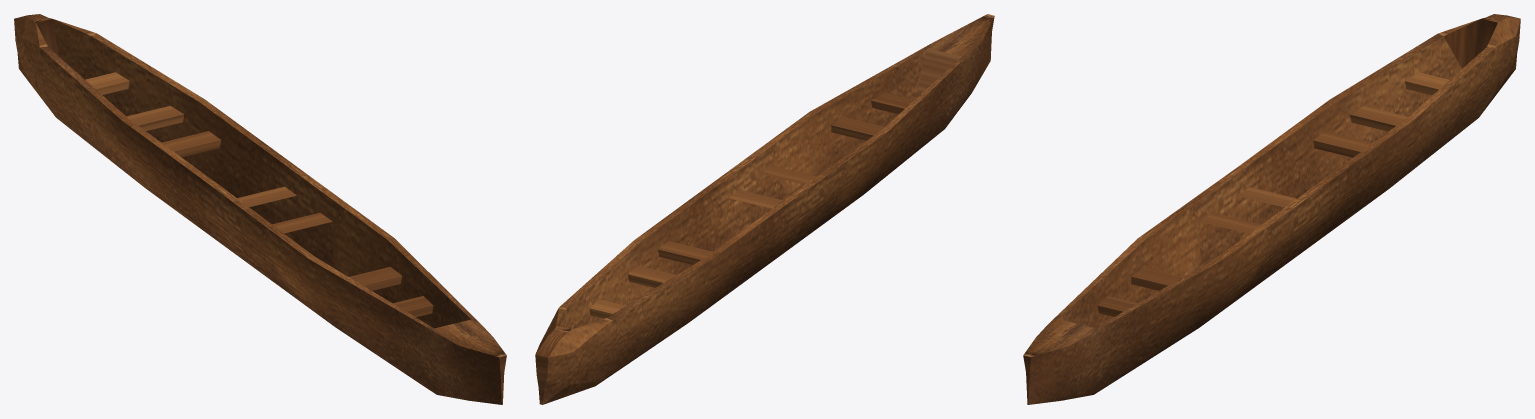
The model's file is canoe_war_basic.dae.
3 views of the same model, side by side, from view 1: azimuth 30°, elevation 25°; view 2: azimuth 150°, elevation 25°; view 3: azimuth 330°, elevation 25° (orthographic). The views are drawn at different scales.
Visible parts, largest first — view 1: war_ship; view 2: war_ship; view 3: war_ship.
Boxes of the visible parts, bbox=[...] form: war_ship: bbox=[14, 14, 506, 404]; war_ship: bbox=[535, 14, 994, 404]; war_ship: bbox=[1023, 14, 1520, 404].
Bounding box in the file's own units: 2.07 × 20.12 × 1.81.
